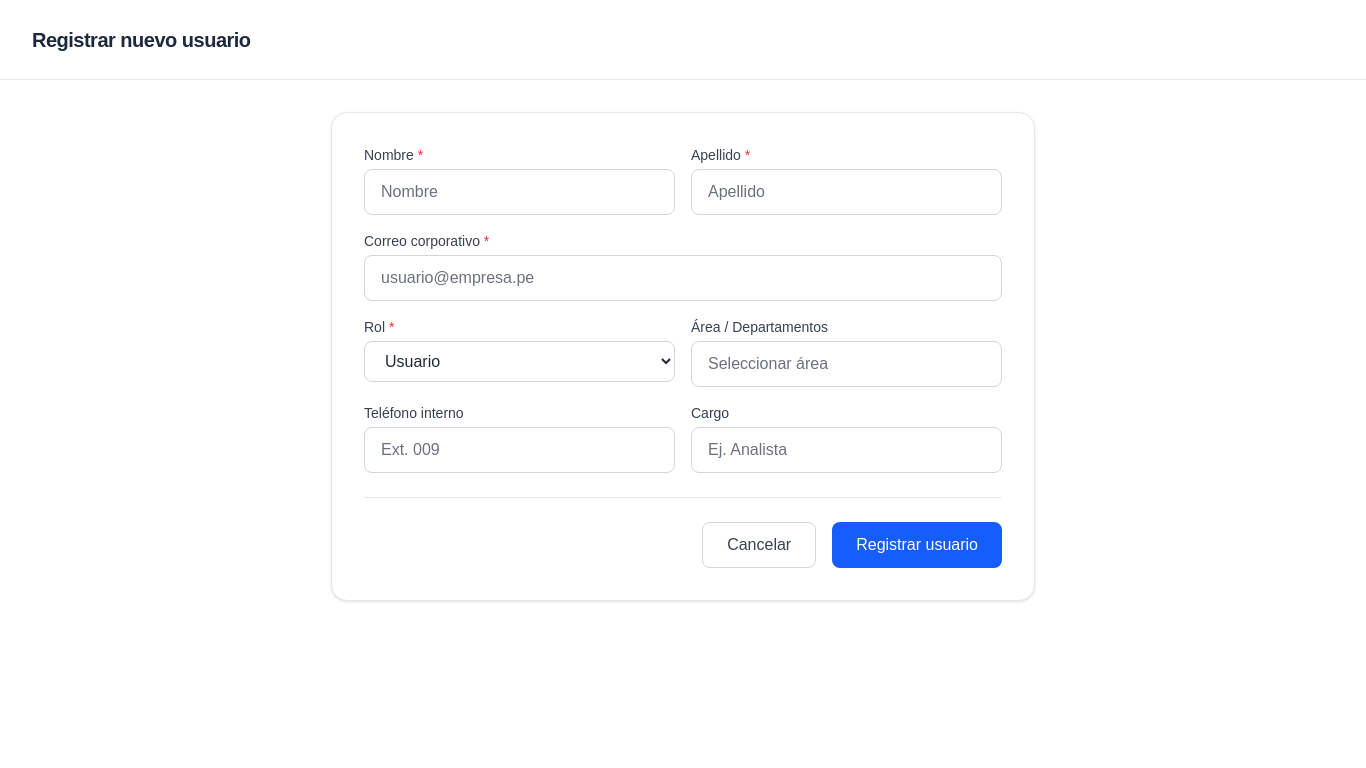
Scenario: RegisterUserPage (Formulario de Registro) › debe mostrar error de validación si el correo no tiene formato válido
Type "Ana" into the field with placeholder "Nombre". click: (520, 192)
box: [364,169,675,215]
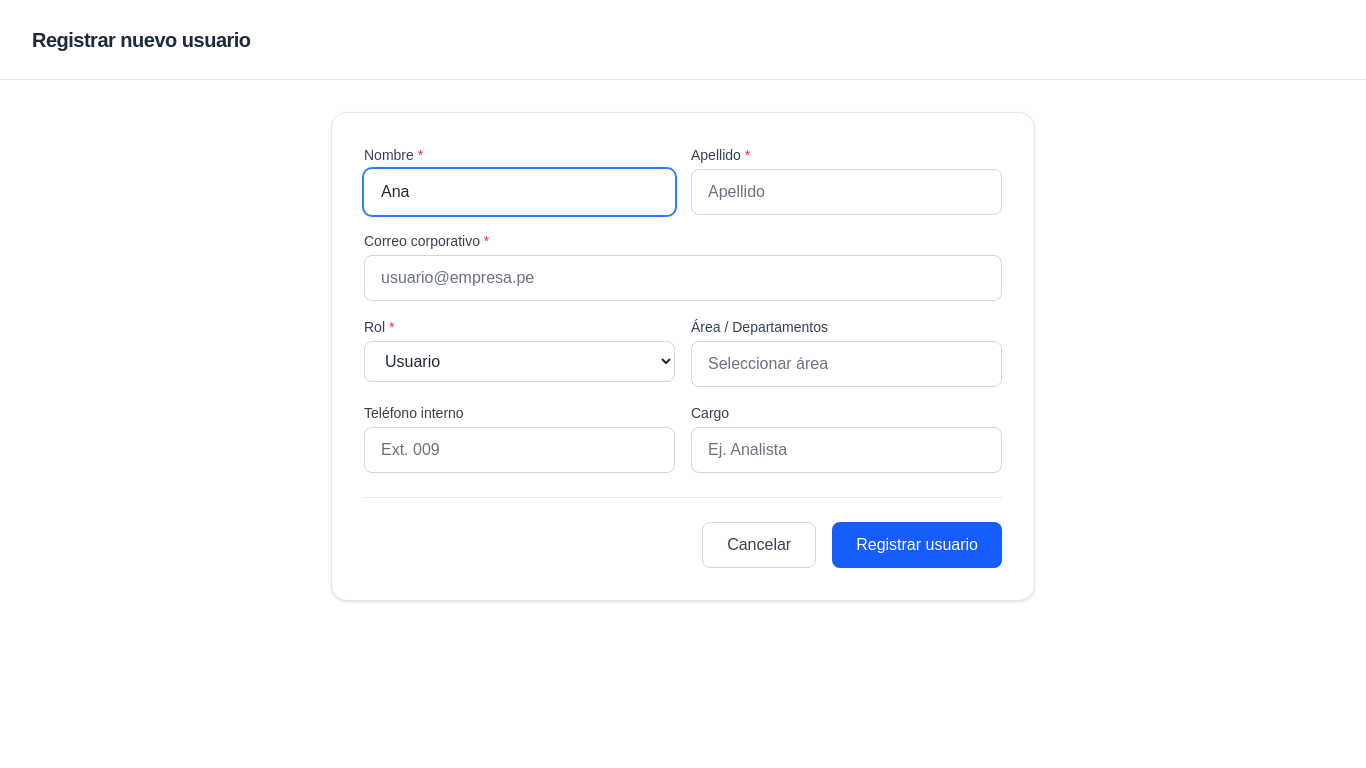
Type "Gomez" into the field with placeholder "Apellido". click: (846, 192)
box: [691,169,1002,215]
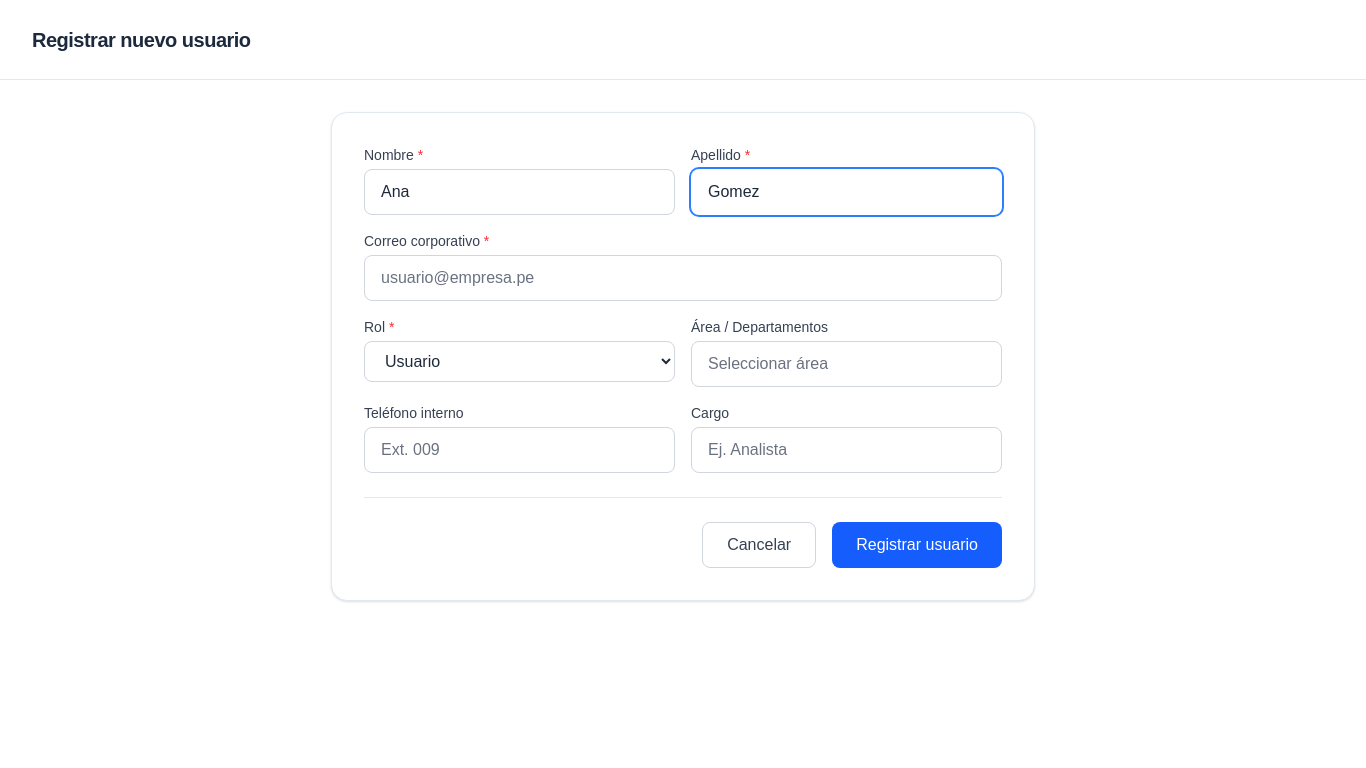
Type "ana@invalido" into the field with placeholder "usuario@empresa.pe". click: (683, 278)
box: [364,255,1002,301]
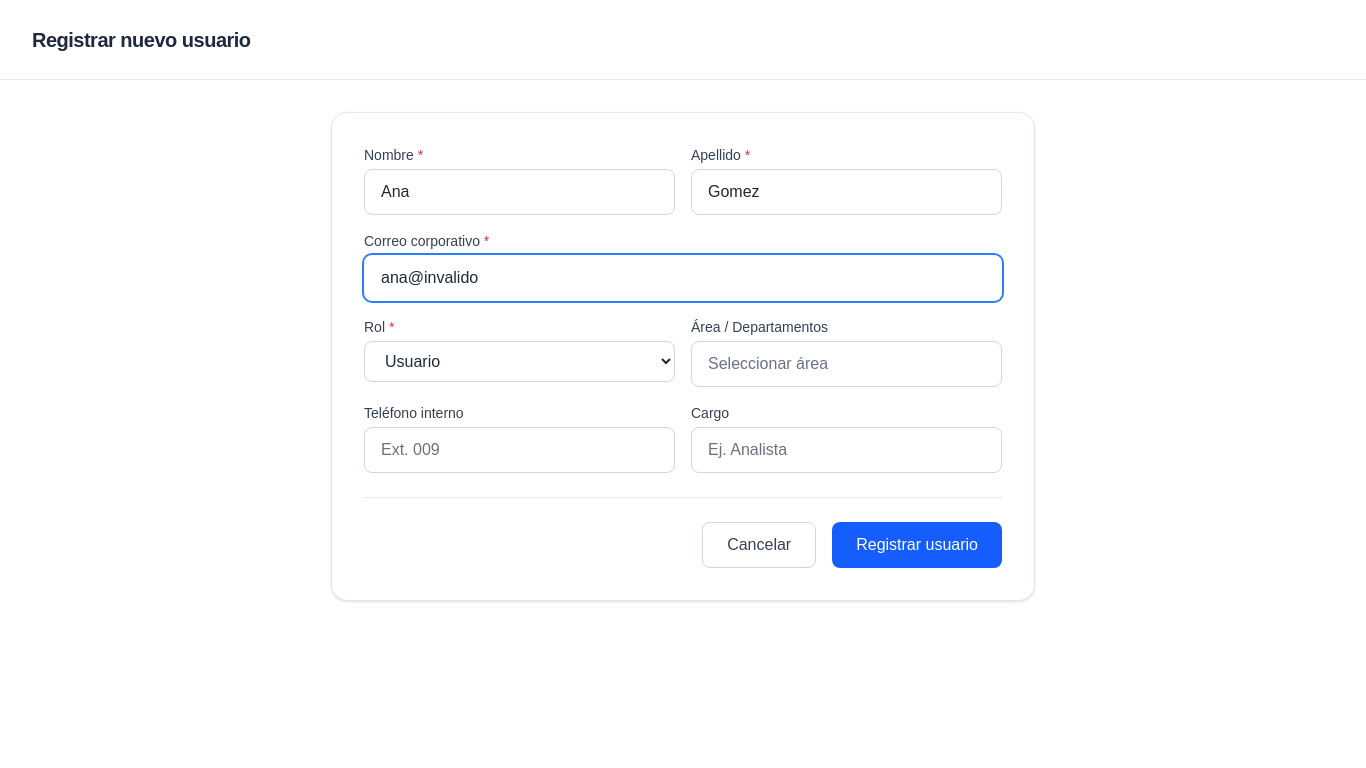
Click the button "Registrar usuario". click: (917, 545)
box: [832,522,1002,568]
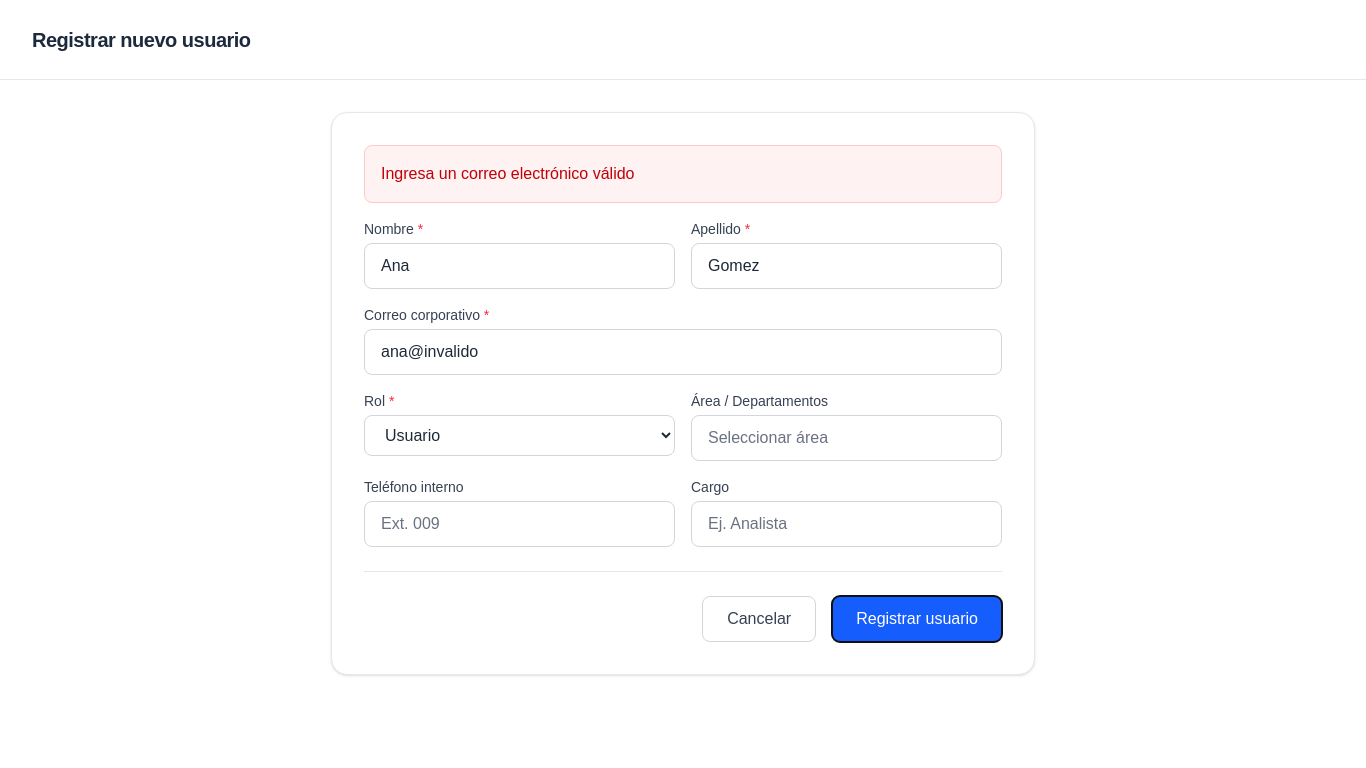
Expected: the text "Ingresa un correo electrónico válido" is shown, [364,145,1002,203]
